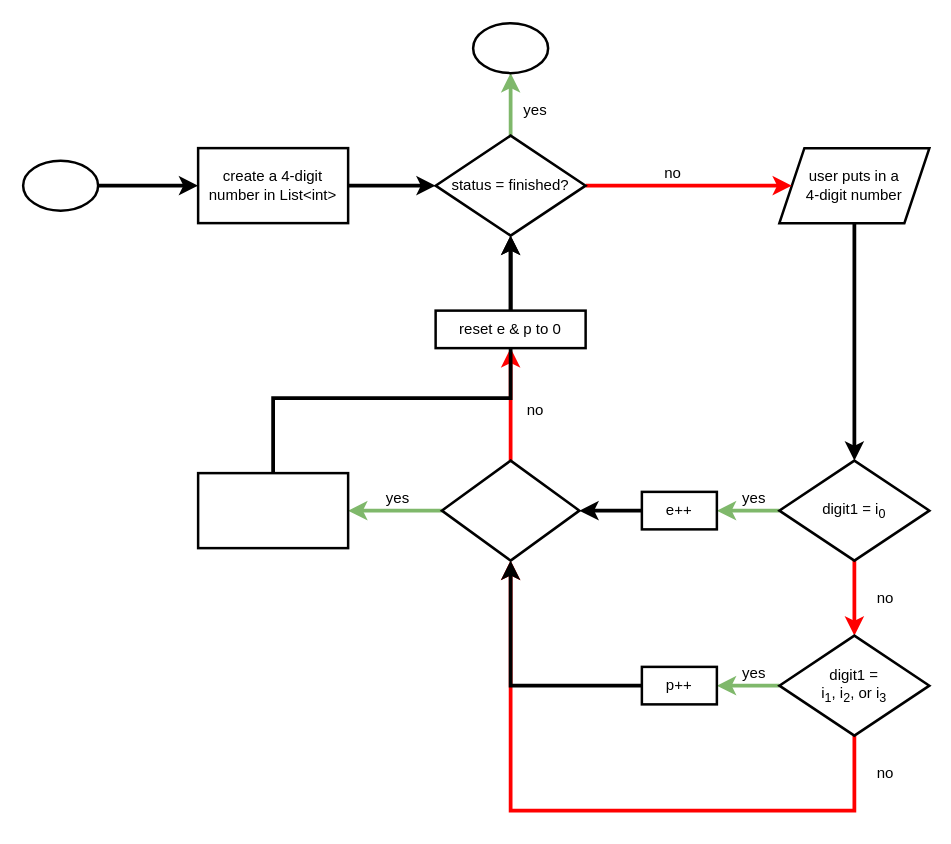
This 951x844 diagram has some shape labels left out. The shapes that lost their labels are listed below. From the top down, each one's box as (x1, y1, x2, y2) in pixels, then its label:
(471, 21, 549, 74): end
(21, 159, 99, 211): start
(196, 471, 349, 549): change status to finished
(440, 459, 580, 561): e = 4?
